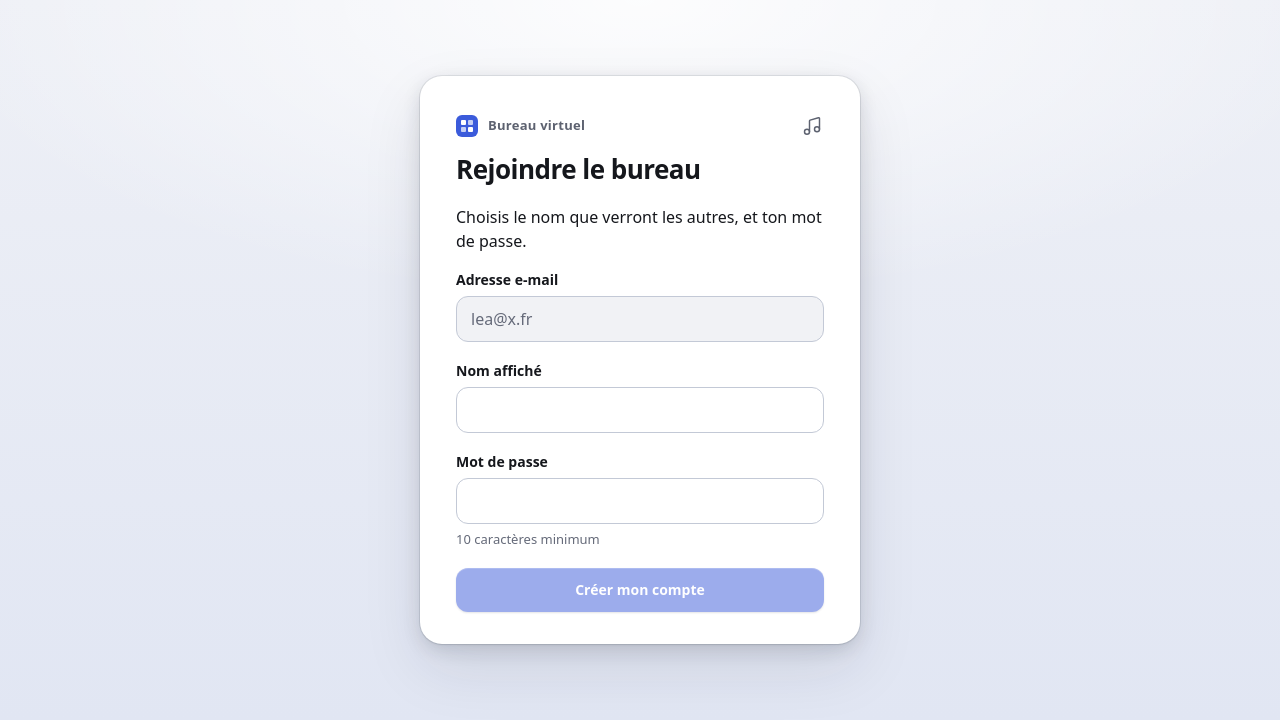
Test: création du compte → le jeton, le nom et le mot de passe partent au serveur, puis le bureau s'ouvre
Type " Léa " into the field labelled "Nom affiché" at (640, 410), box [456, 387, 824, 433]
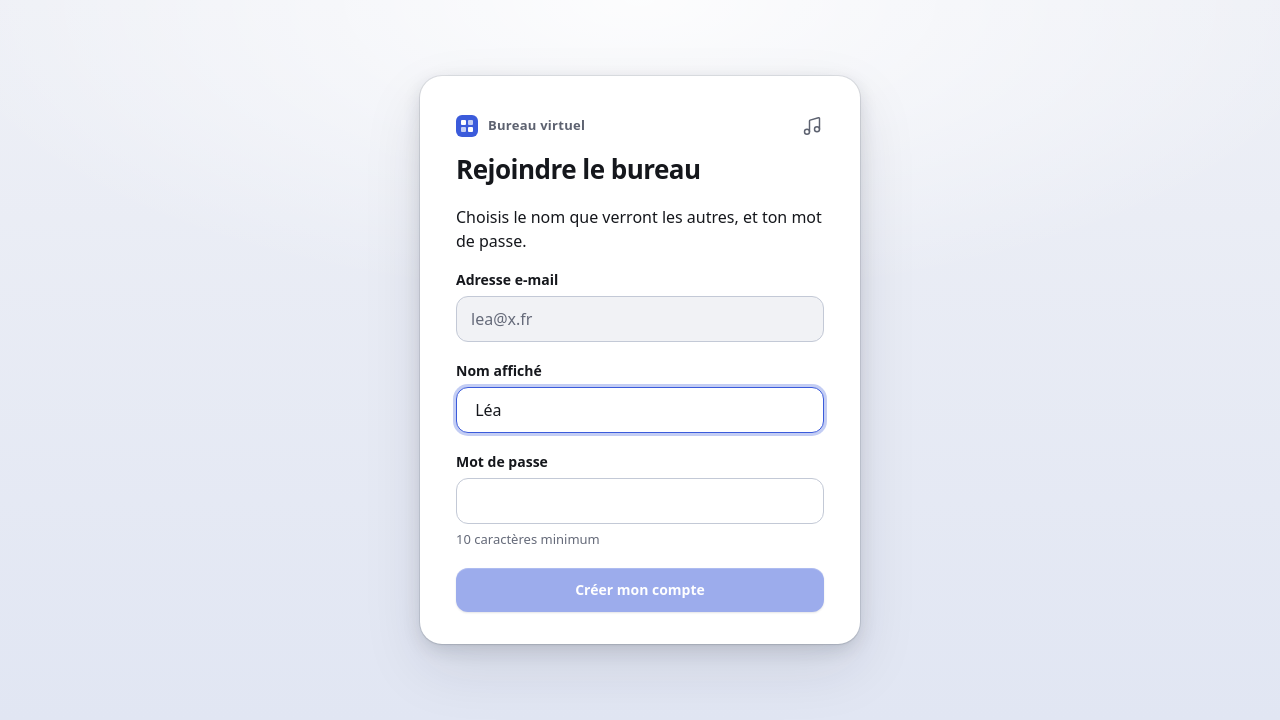
Type "motdepasse1" into the password field labelled "Mot de passe" at (640, 501), box [456, 478, 824, 524]
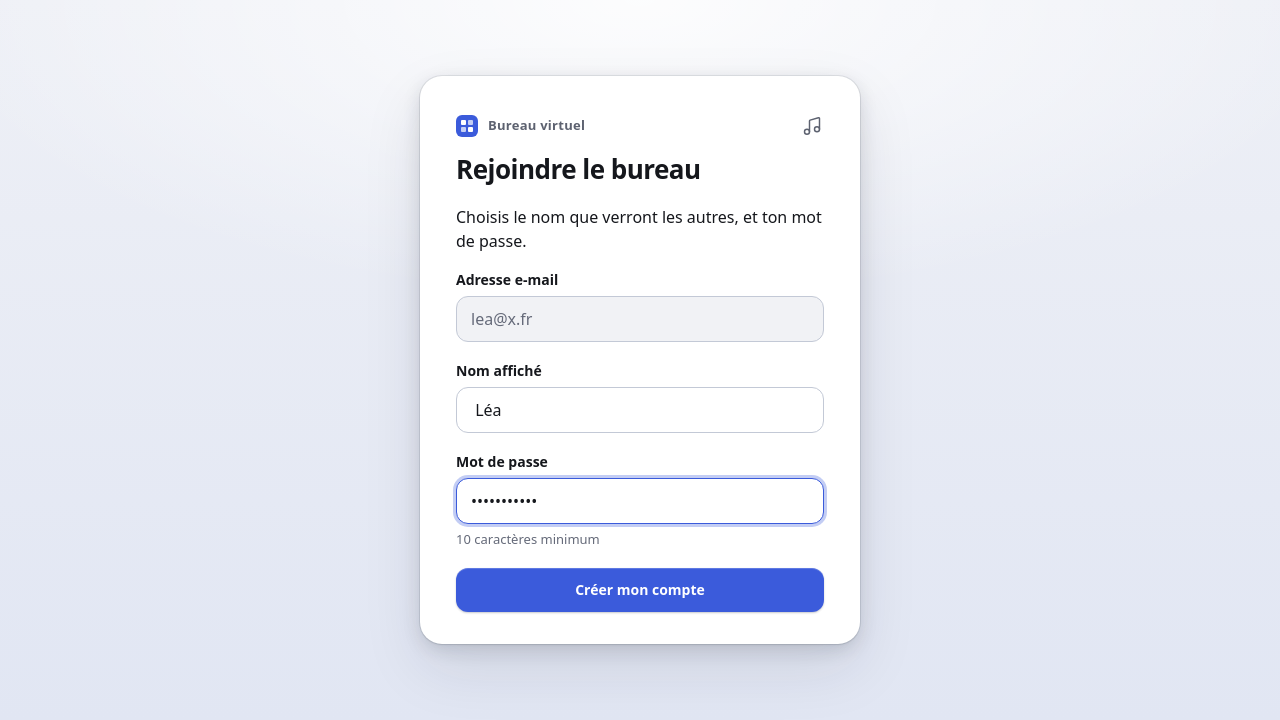
Click the button "Créer mon compte" at (640, 590), box [456, 568, 824, 612]
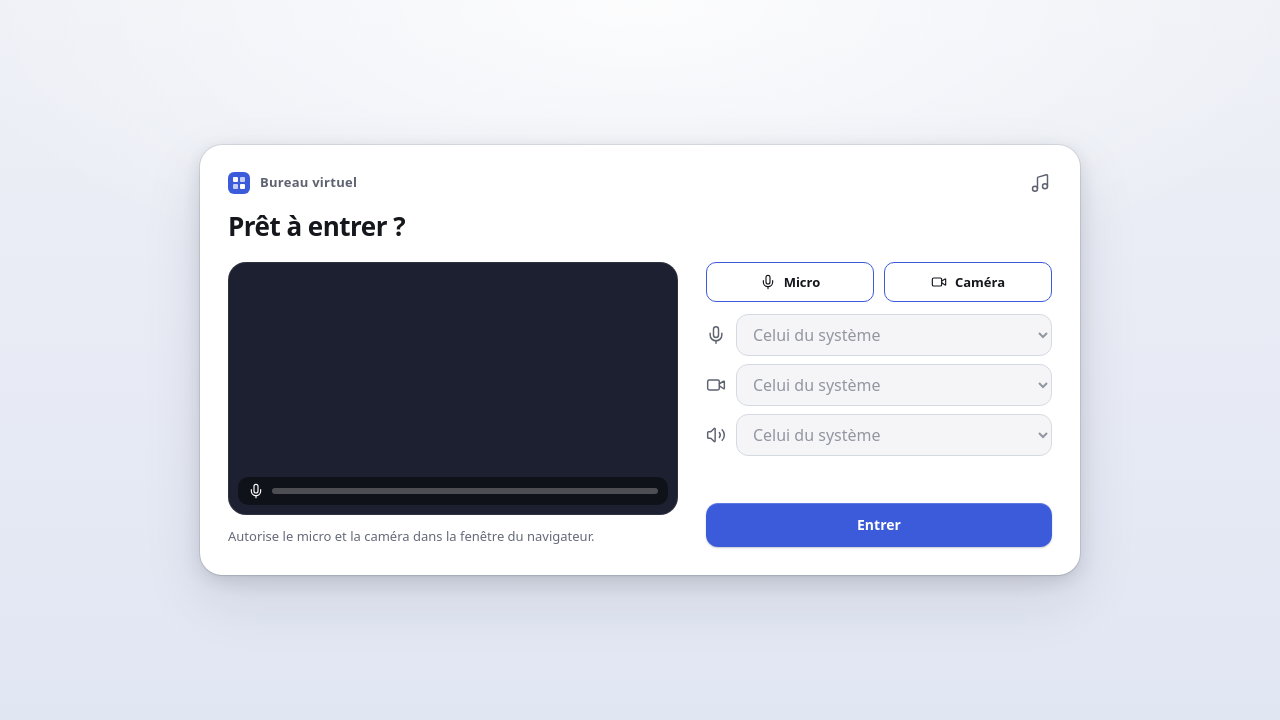
Click the button "Entrer" at (879, 525), box [706, 503, 1052, 547]
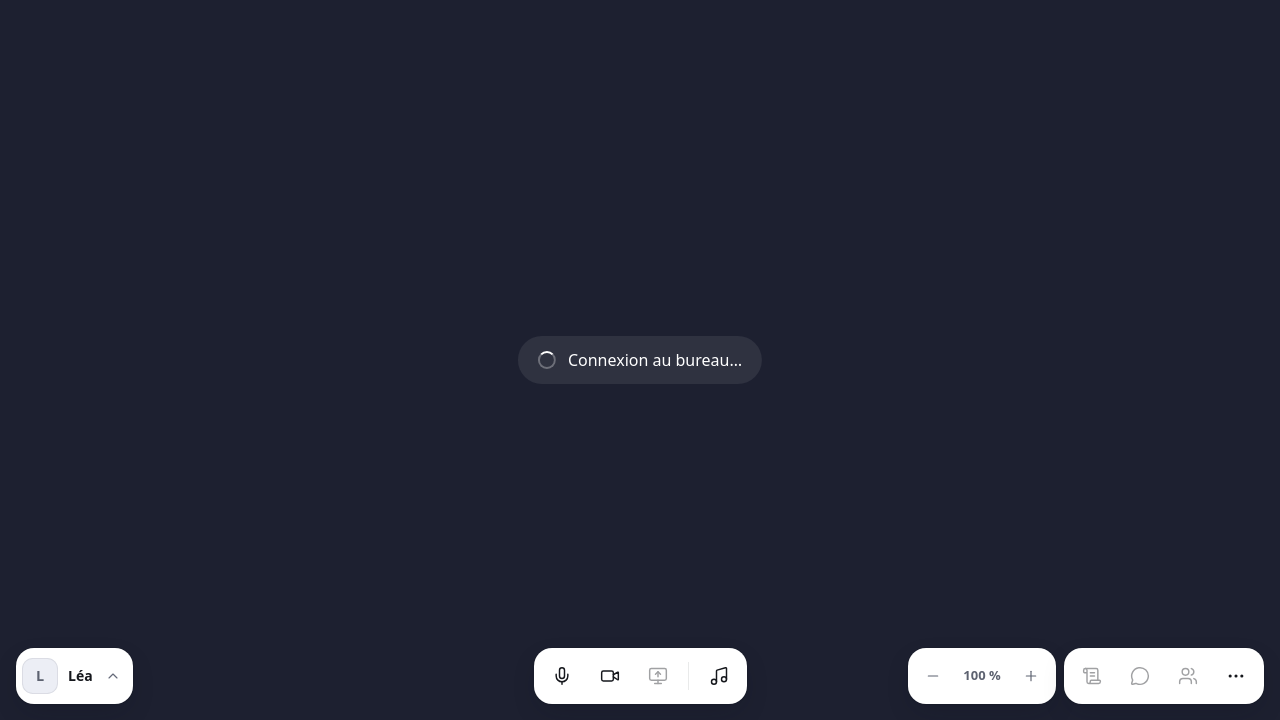
Expected: the text "Léa" is shown, [68, 667, 93, 685]
